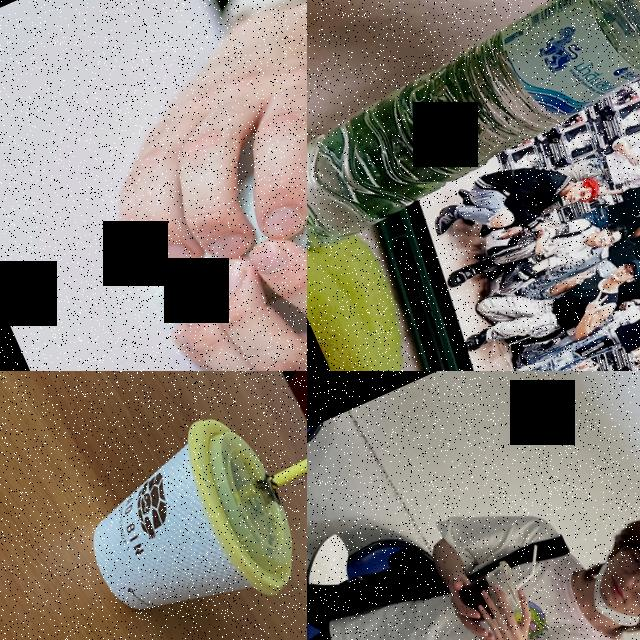bottle: (307, 0, 640, 268)
cup: (107, 48, 307, 371), (52, 393, 307, 640), (450, 558, 530, 635)
